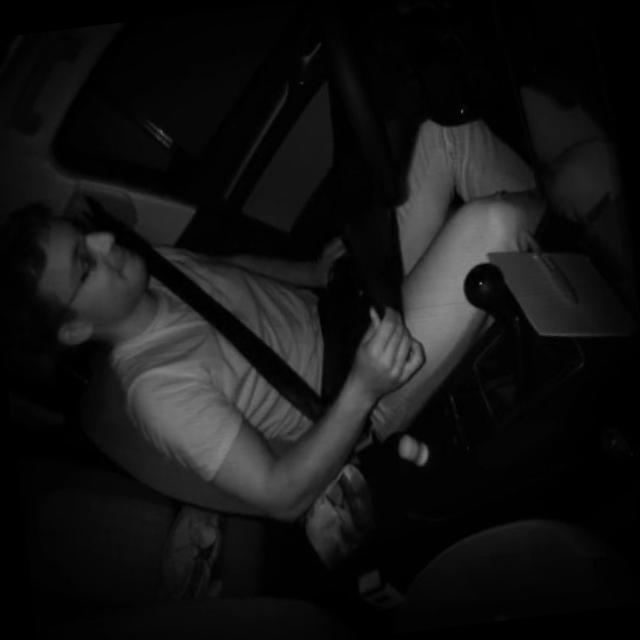pen: (521, 224, 581, 312)
